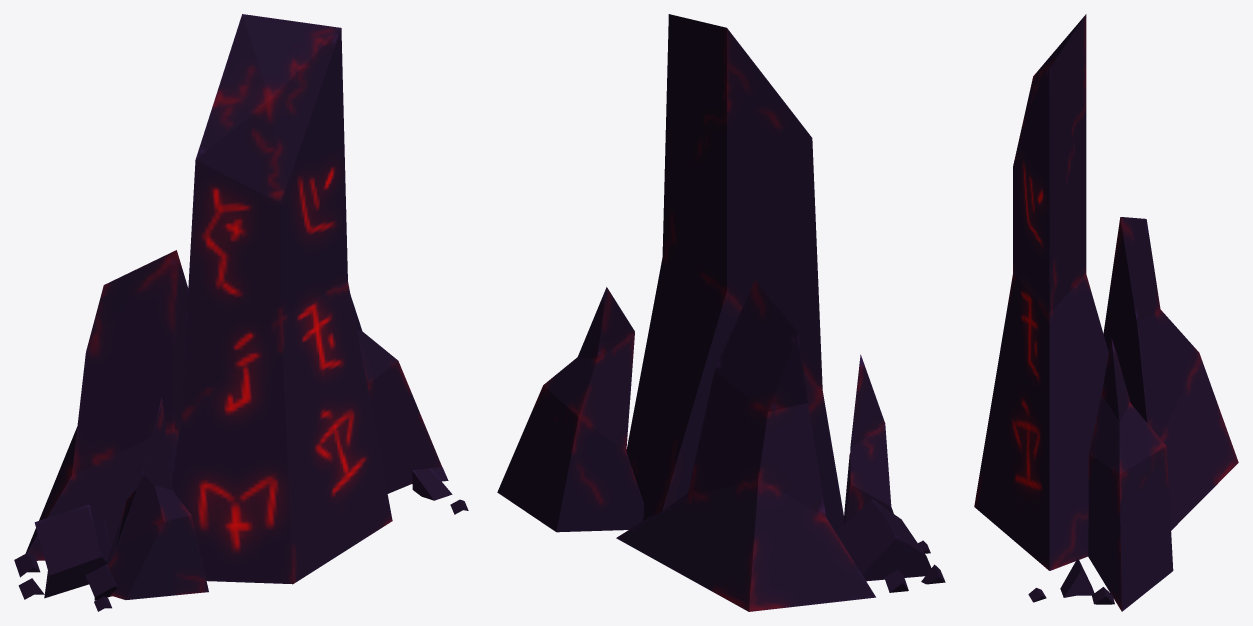
File: Monolith.fbx
The picture shows the model from 3 angles, left to right: view 1: azimuth 30°, elevation 25°; view 2: azimuth 150°, elevation 25°; view 3: azimuth 270°, elevation 25°; orthographic projection. The views are drawn at different scales.
Visible parts, largest first — view 1: Monolith; view 2: Monolith; view 3: Monolith.
Part boxes in pixels (x1=…): Monolith: x1=14, y1=14, x2=468, y2=611; Monolith: x1=497, y1=14, x2=945, y2=611; Monolith: x1=974, y1=14, x2=1238, y2=611.
Bounding box in the file's own units: 1324 × 1511 × 723.
